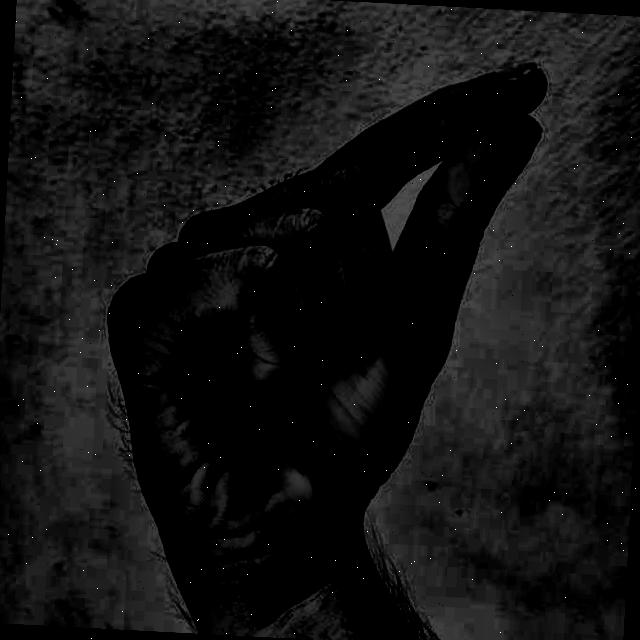Anusshar: (66, 9, 562, 625)
